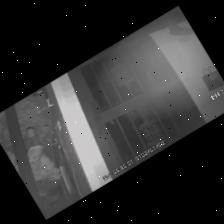person: (25, 126, 59, 182)
